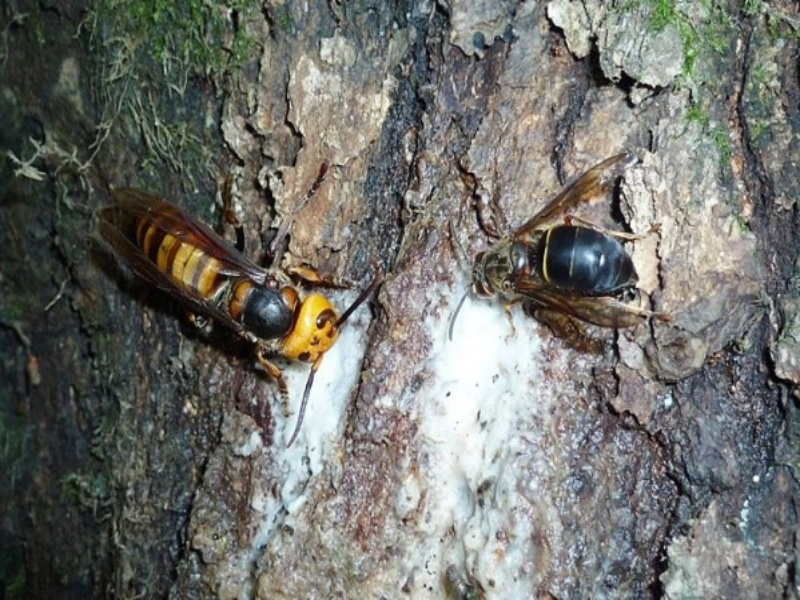asian_giant_hornet: (132, 195, 346, 384)
